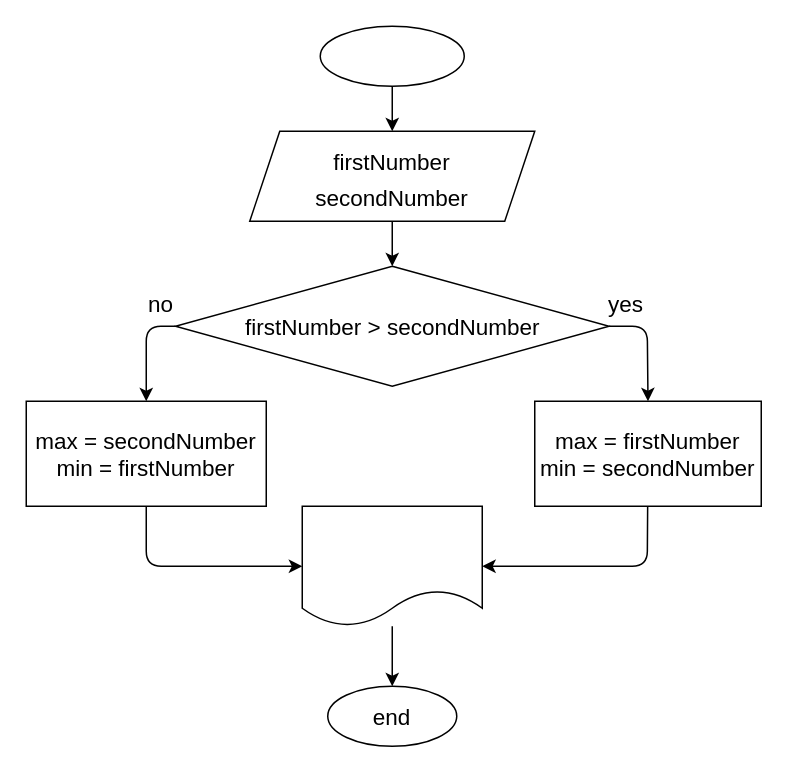
This 788x773 diagram has some shape labels left out. Each missing label, with the centre of its shape:
"max min" belongs at point 391,565.
"start" belongs at point 391,55.
